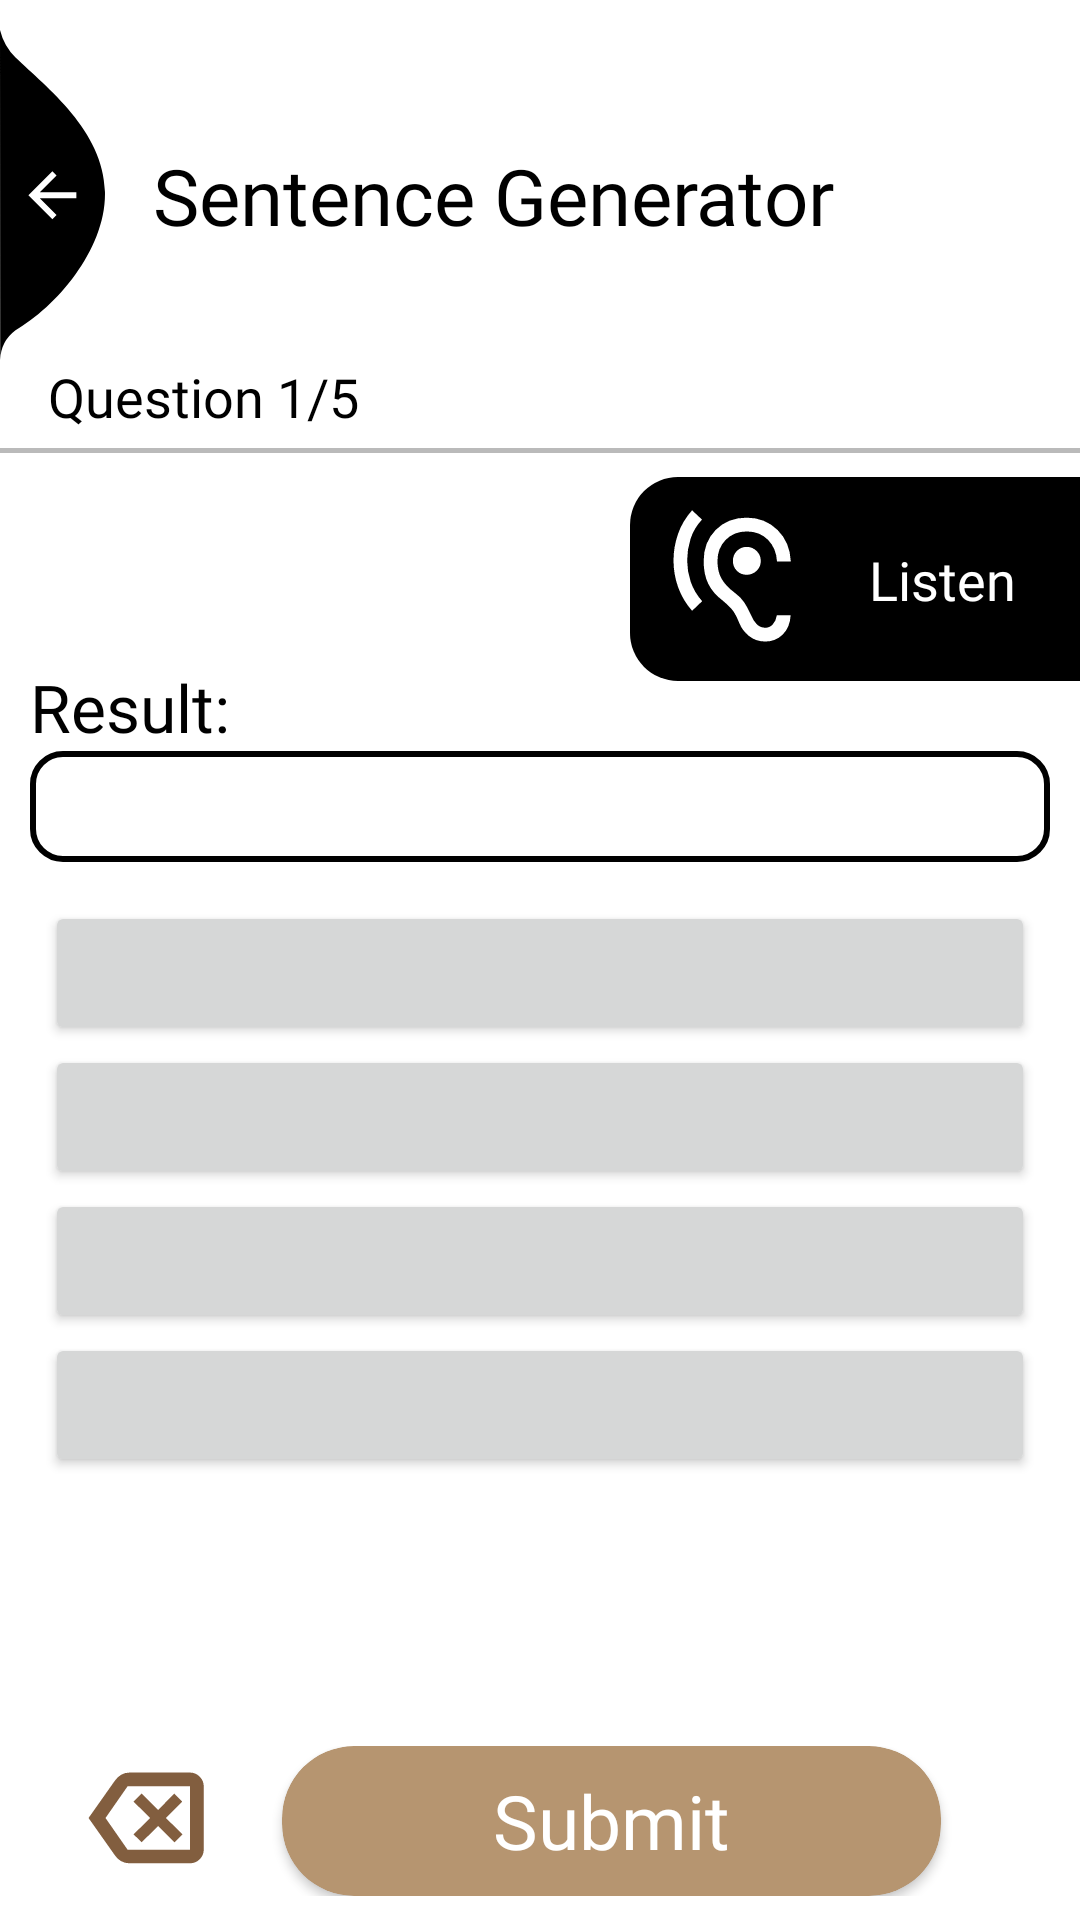

Icons on this 1080x1920 Android screen, each with its box as (x1, y1, x2, y2):
back: (0, 30, 105, 359)
backspace: (89, 1772, 204, 1864)
hearing: (673, 510, 791, 642)
